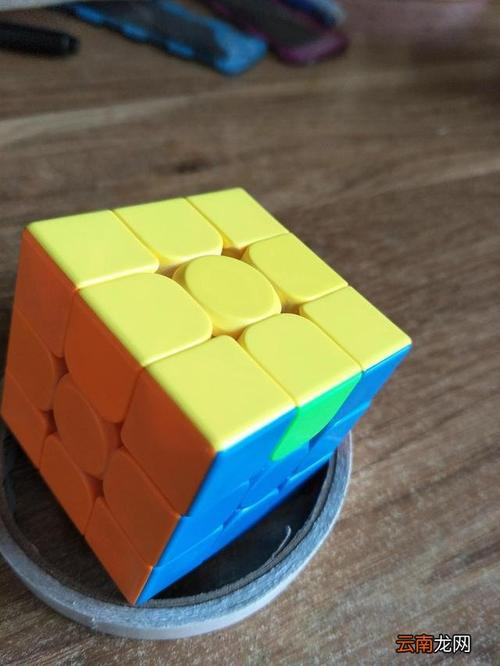cube: (1, 178, 422, 611)
